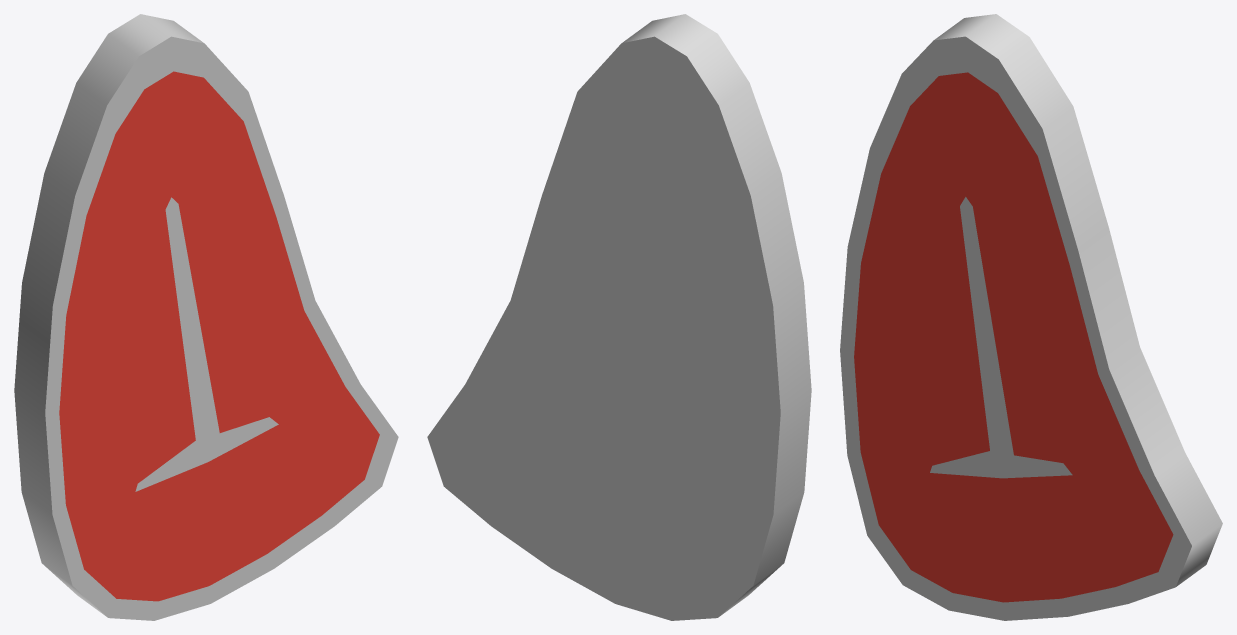
File: Steak_01.gltf
3 views of the same model, side by side, from view 1: azimuth 30°, elevation 25°; view 2: azimuth 150°, elevation 25°; view 3: azimuth 330°, elevation 25° (orthographic).
Parts seen in each view (by area): view 1: node-0; view 2: node-0; view 3: node-0.
Part boxes in pixels (box(x1,y1,x2,y2)): node-0: box(14, 14, 398, 620); node-0: box(427, 14, 811, 620); node-0: box(840, 14, 1222, 620).
Size of the model in its own units: 176 by 276 by 26.63.
